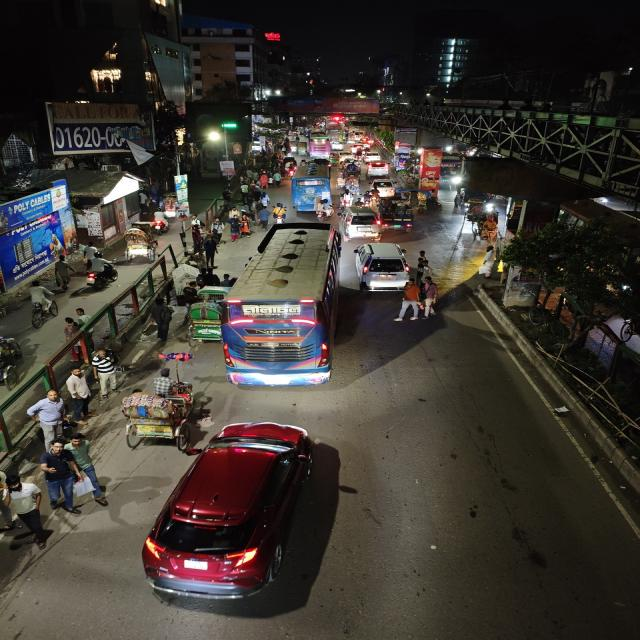bicycle: (23, 282, 56, 326)
bus: (223, 222, 343, 392), (290, 162, 335, 216), (308, 132, 332, 158)
car: (136, 416, 348, 612), (352, 241, 412, 295), (340, 207, 386, 240), (365, 160, 392, 178), (362, 150, 382, 163), (339, 152, 355, 163), (349, 144, 360, 154), (332, 142, 344, 150)
motorcycle: (83, 254, 120, 290), (360, 188, 381, 208), (314, 198, 332, 220), (272, 202, 288, 223), (339, 188, 353, 210)
pedestrian: (0, 476, 47, 542), (39, 439, 82, 511), (69, 434, 112, 502), (27, 392, 69, 439), (146, 298, 177, 344), (396, 278, 425, 322), (410, 276, 440, 318), (65, 369, 94, 408), (44, 256, 76, 289), (478, 244, 500, 282), (174, 281, 198, 311), (200, 234, 221, 267), (81, 241, 99, 269), (232, 214, 249, 242), (227, 216, 242, 242), (254, 204, 270, 227), (240, 213, 253, 240), (211, 218, 226, 240)
pickup_van: (381, 199, 418, 235)
rickshaw: (115, 384, 206, 452), (182, 296, 224, 348), (120, 227, 159, 263), (470, 214, 502, 243), (415, 188, 443, 215), (342, 177, 361, 194)
